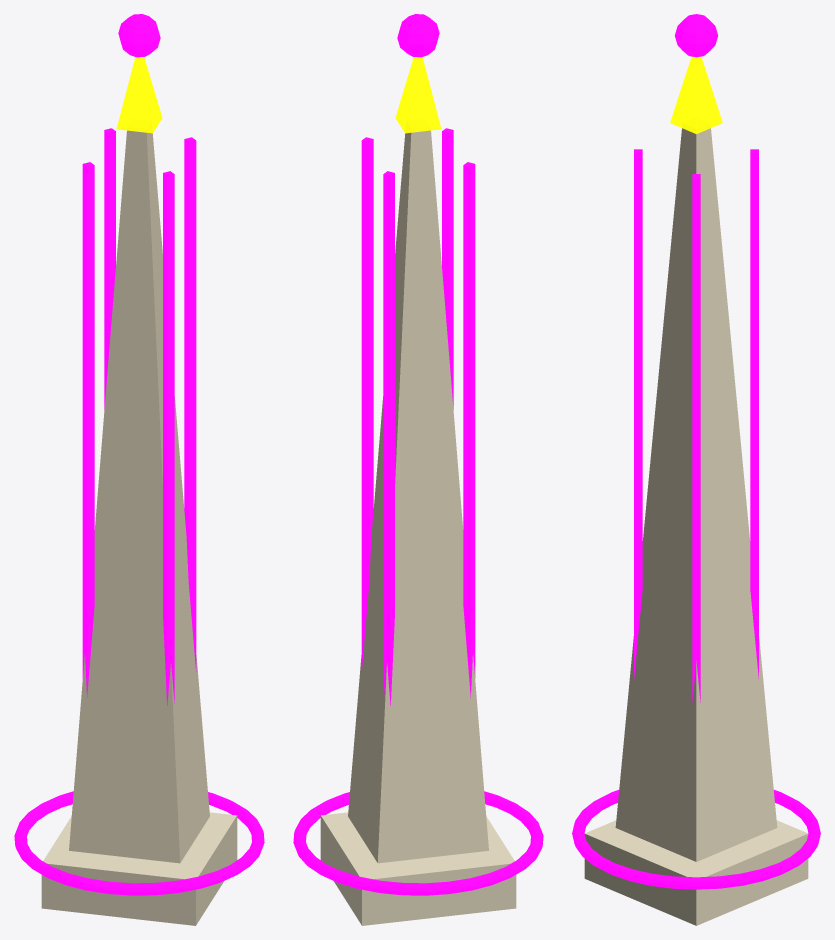
The model's file is solar_beam_monolith.glb.
The picture shows the model from 3 angles, left to right: view 1: azimuth 30°, elevation 25°; view 2: azimuth 150°, elevation 25°; view 3: azimuth 270°, elevation 25°; orthographic projection.
Parts seen in each view (by area): view 1: SolarBeamMonolith; view 2: SolarBeamMonolith; view 3: SolarBeamMonolith.
Part boxes in pixels (x1,y1,x2,y2): SolarBeamMonolith: (14, 14, 264, 925); SolarBeamMonolith: (293, 14, 543, 925); SolarBeamMonolith: (572, 14, 820, 925).
Size of the model in its own units: 1.6 by 6.12 by 1.6.
